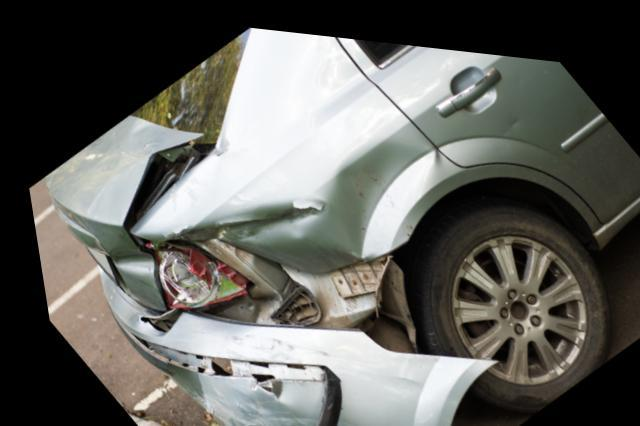dent: (321, 126, 432, 247), (211, 190, 322, 238)
dislocated part: (90, 232, 484, 426)
lamp broken: (148, 238, 241, 311)
